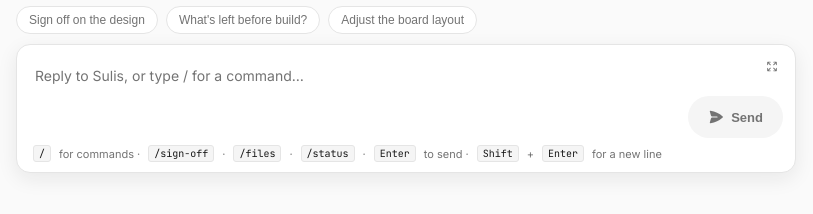
Test: <Composer /> — the docked write surface (signed contract) › disables send while THIS change is streaming (FR-20 one-in-flight)
This screenshot has width=813, height=214.
Type "hi" into the text box named "message this change's agent" at coordinates (354, 98), box [29,57,678,138]
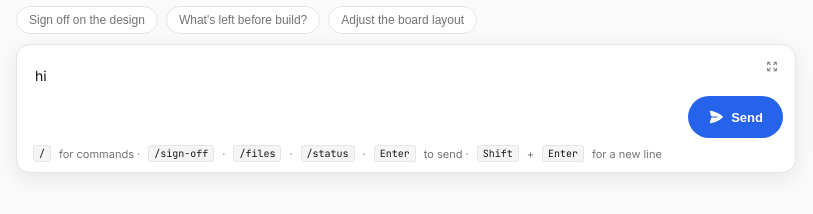
Press Enter in the text box named "message this change's agent", box [29,57,678,138]
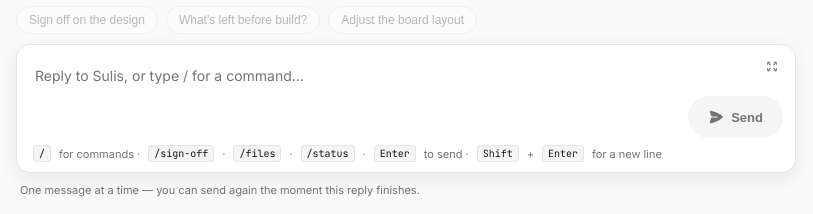
Check: the button "Send" is disabled, box [688,96,783,138]
